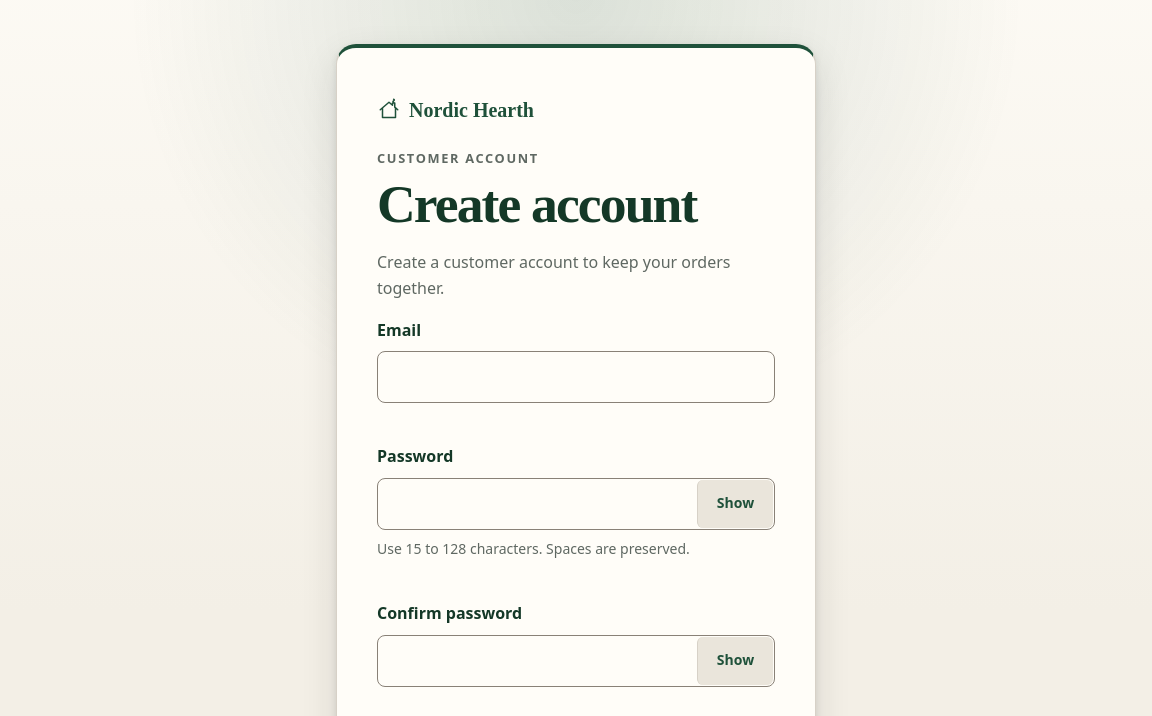
Scenario: shared registration page › blocks short passwords and focuses the password field
Type "customer@example.invalid" into the field labelled "Email" at (576,377), box [377,351,775,403]
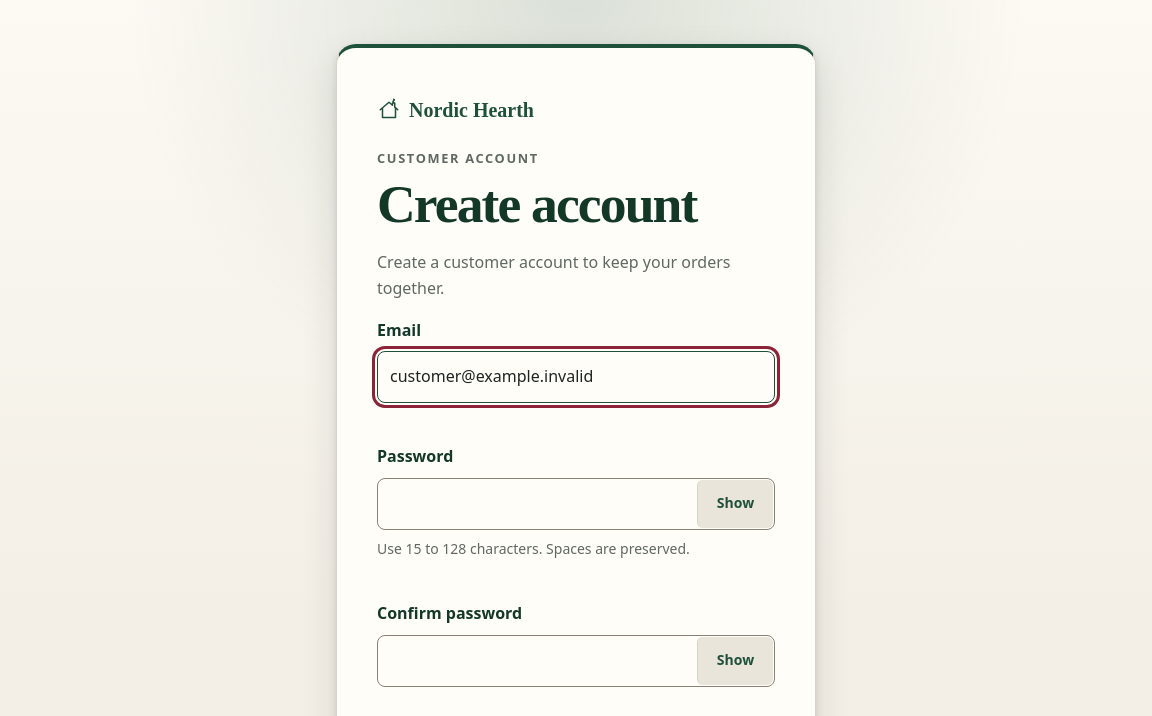
Type "short" into the password field labelled "Password" at (576,504), box [377,478,775,530]
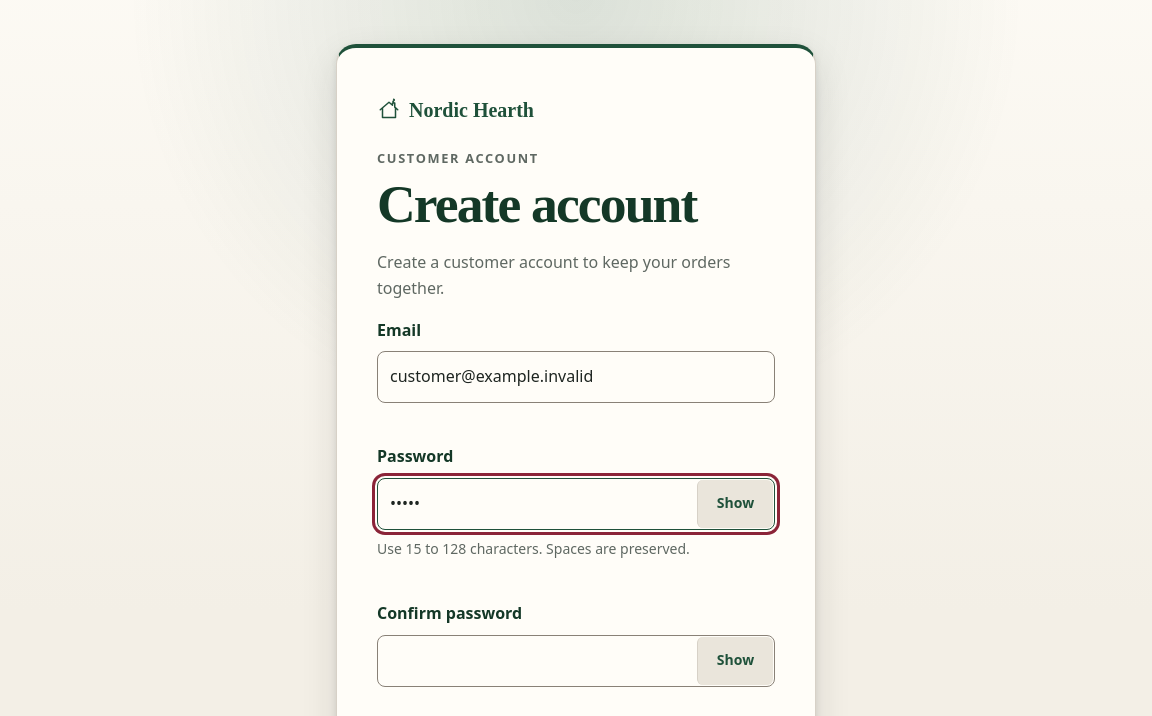
Type "short" into the password field labelled "Confirm password" at (576,661), box [377,635,775,687]
(page scrolled)
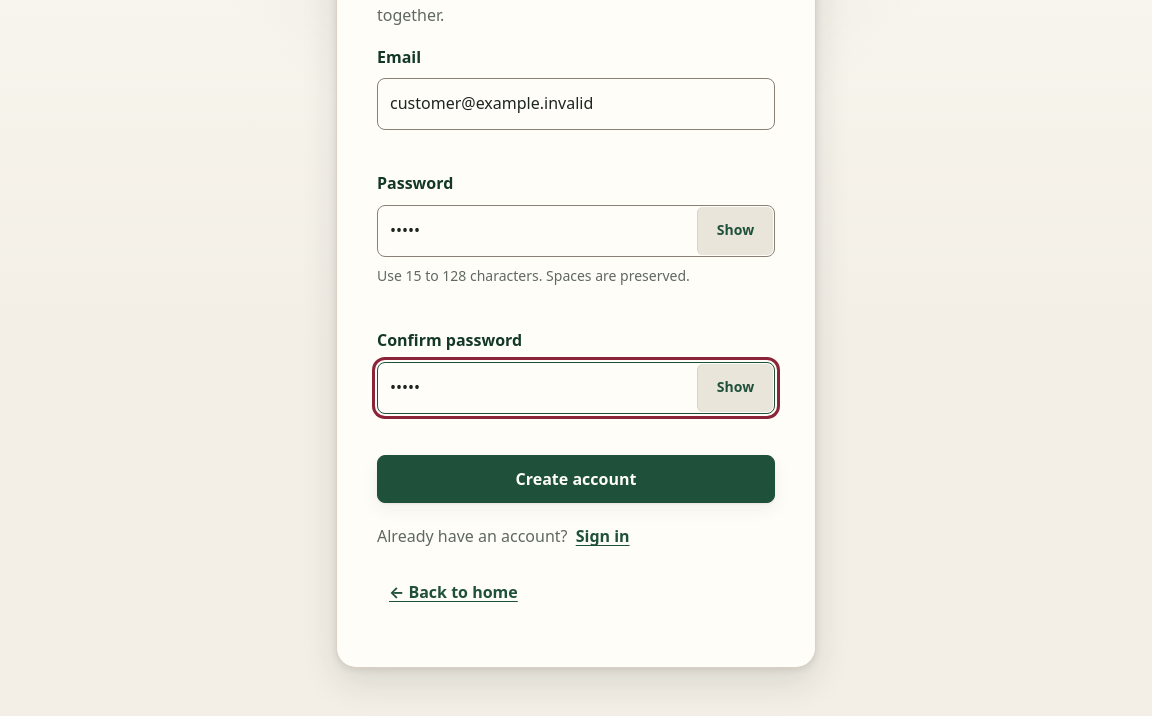
Click the button "Create account" at (576,479), box [377,455,775,503]
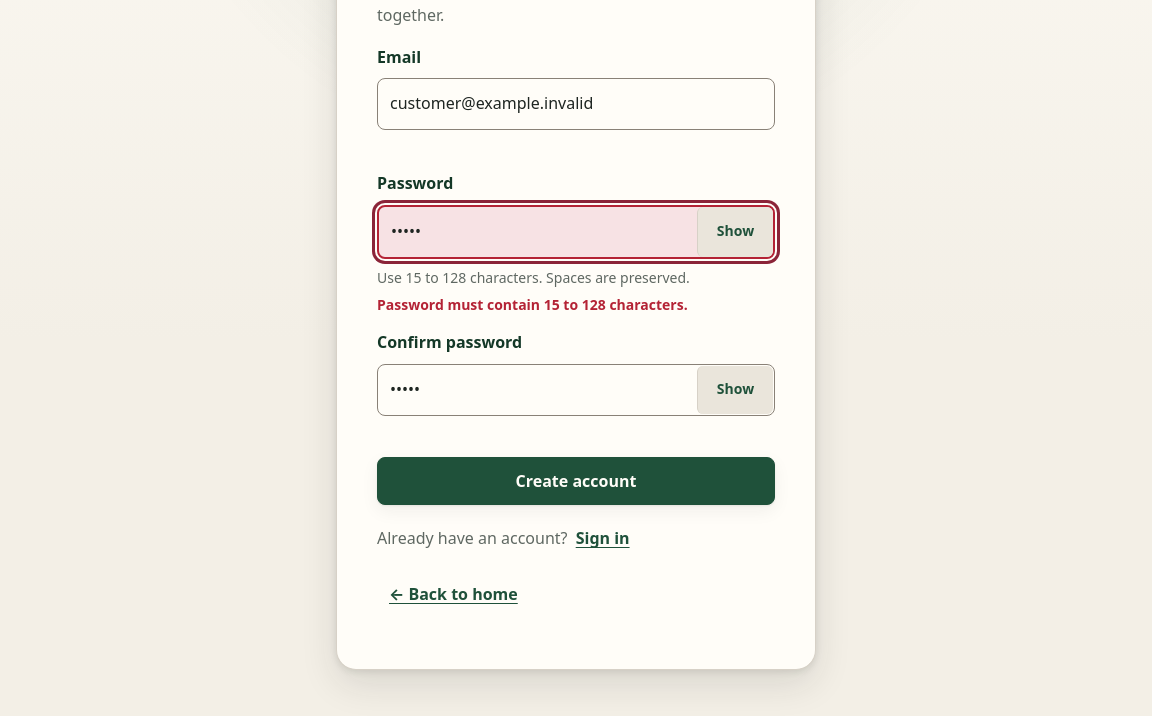
Check: the text "Password must contain 15 to 128 characters." is shown, box [377,295,688,314]
